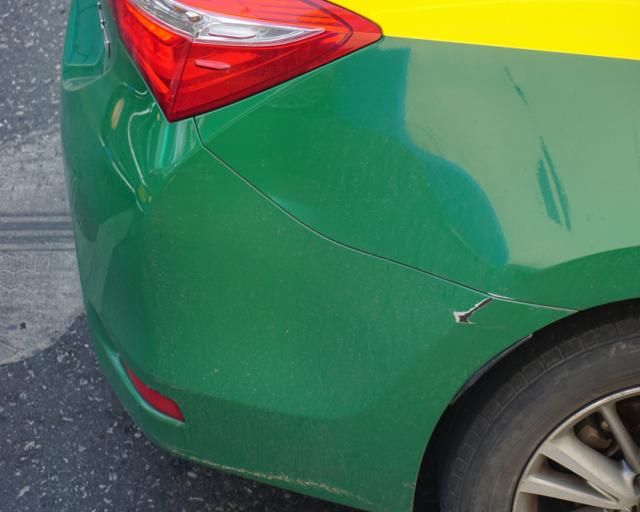scratch: (453, 296, 500, 325)
